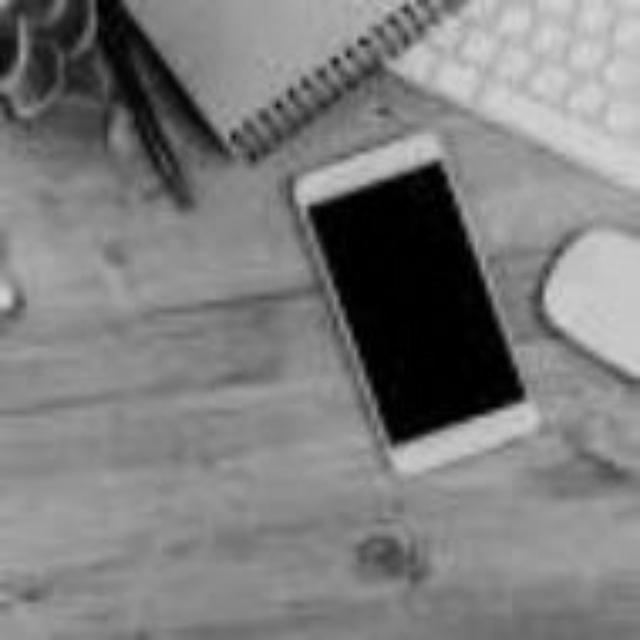fake: (297, 164, 521, 450)
